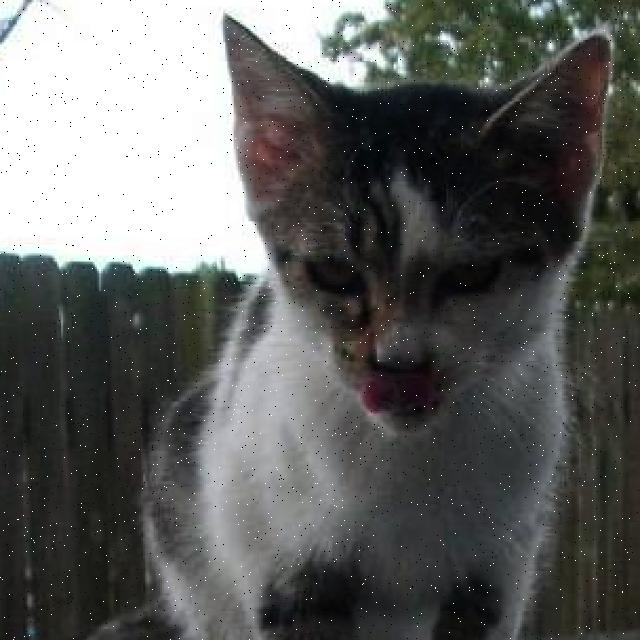Cat: (204, 7, 632, 435)
